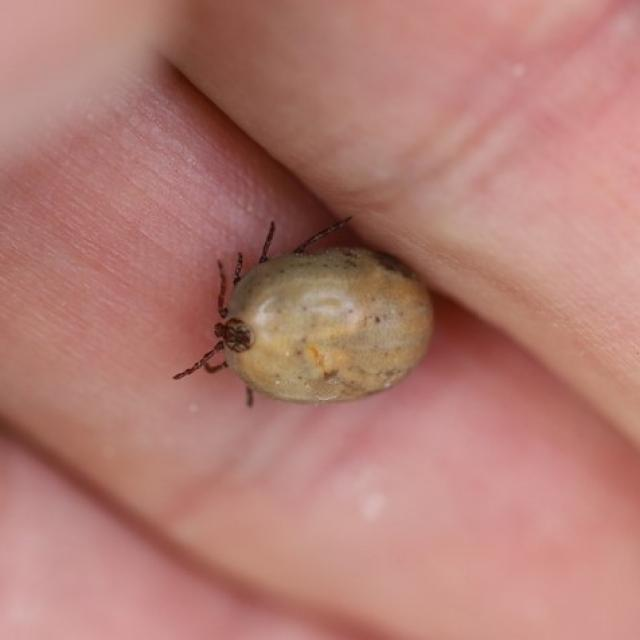Dermacentor Reticulatus-F-Fed: (172, 216, 434, 408)
